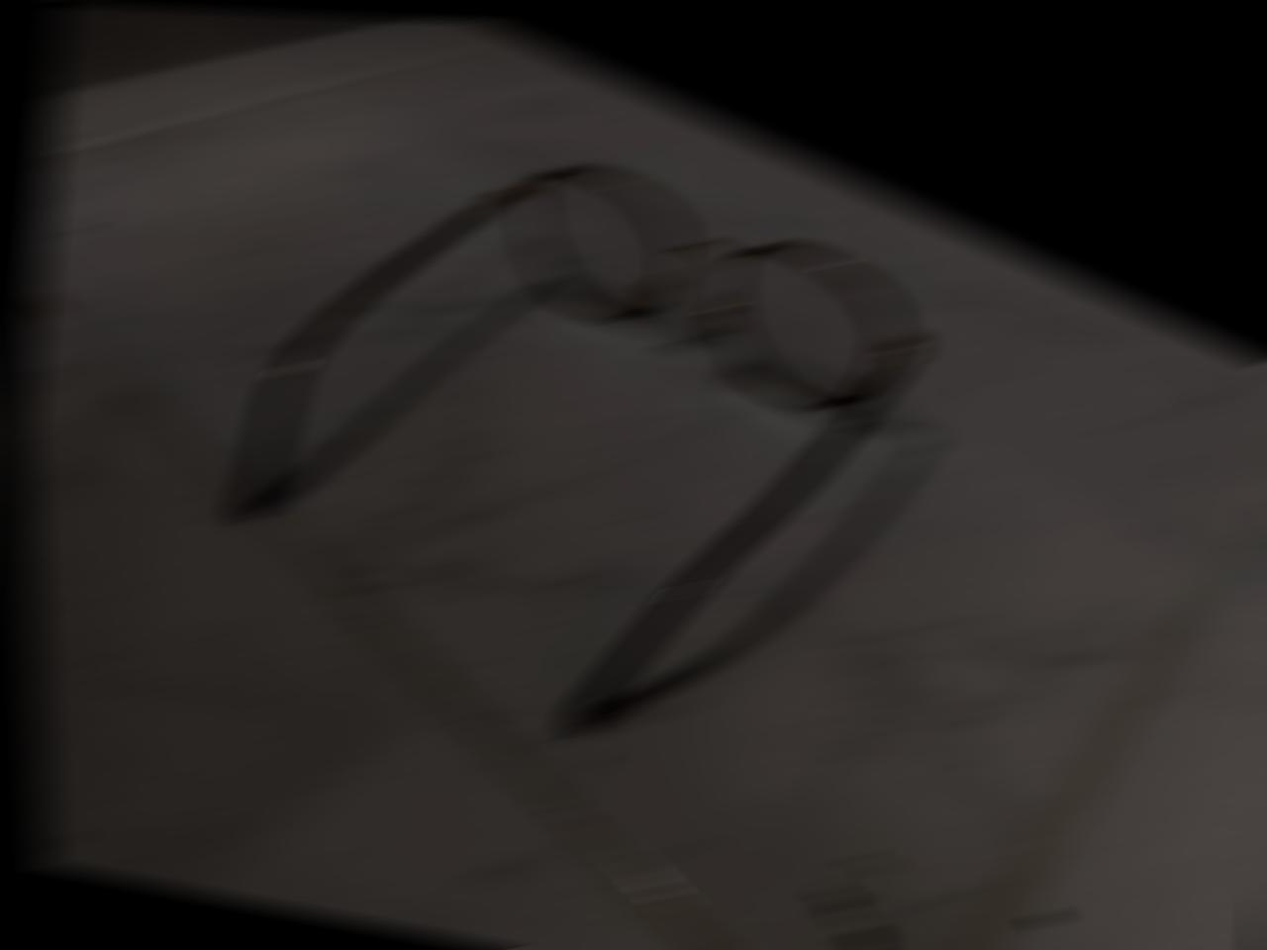glasses: (166, 105, 978, 794)
